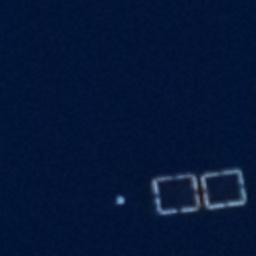square_solid: (147, 169, 205, 218), (196, 165, 250, 213)
